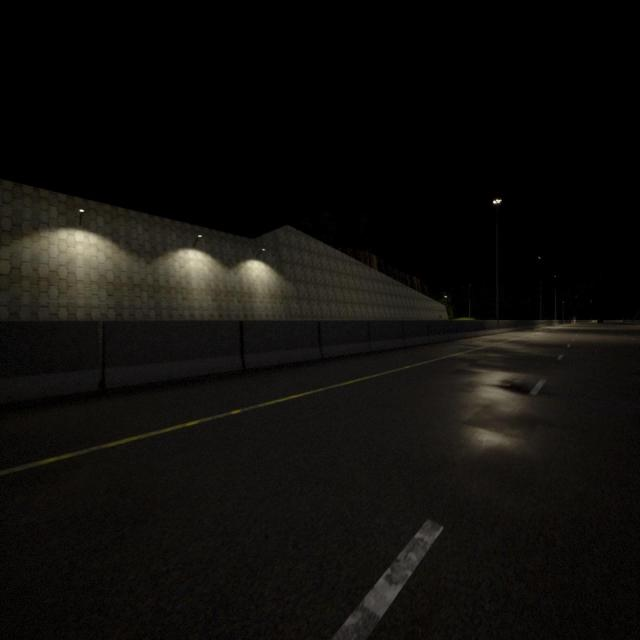Vehicle: (597, 318, 604, 324)
